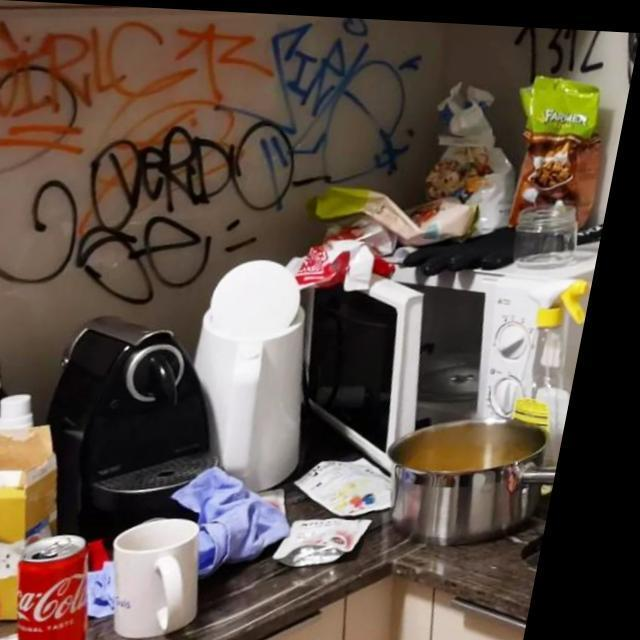-: (0, 19, 283, 228), (71, 106, 309, 327), (240, 11, 451, 206), (0, 50, 117, 280), (503, 21, 617, 83)
